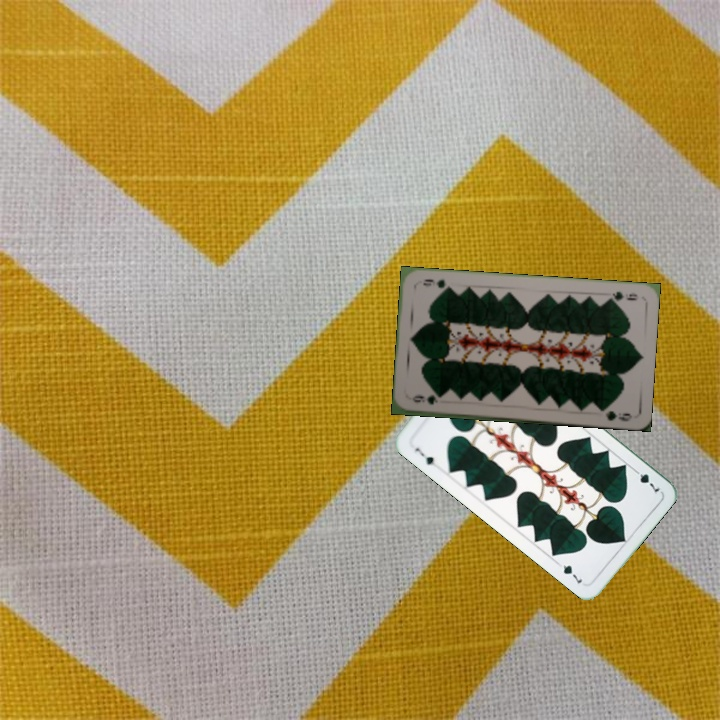G7: (629, 464, 662, 497), (411, 443, 437, 468)
G9: (602, 288, 640, 304), (408, 391, 444, 407)
